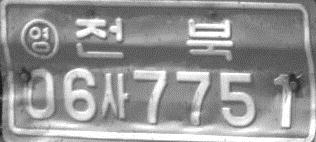0: (21, 67, 56, 118)
1: (265, 72, 301, 129)
5: (219, 71, 257, 128)
6: (62, 66, 96, 121)
7: (132, 68, 166, 124), (176, 71, 210, 126)
사: (101, 72, 128, 120)
영: (19, 16, 59, 60)
전북_D: (74, 16, 233, 61)
